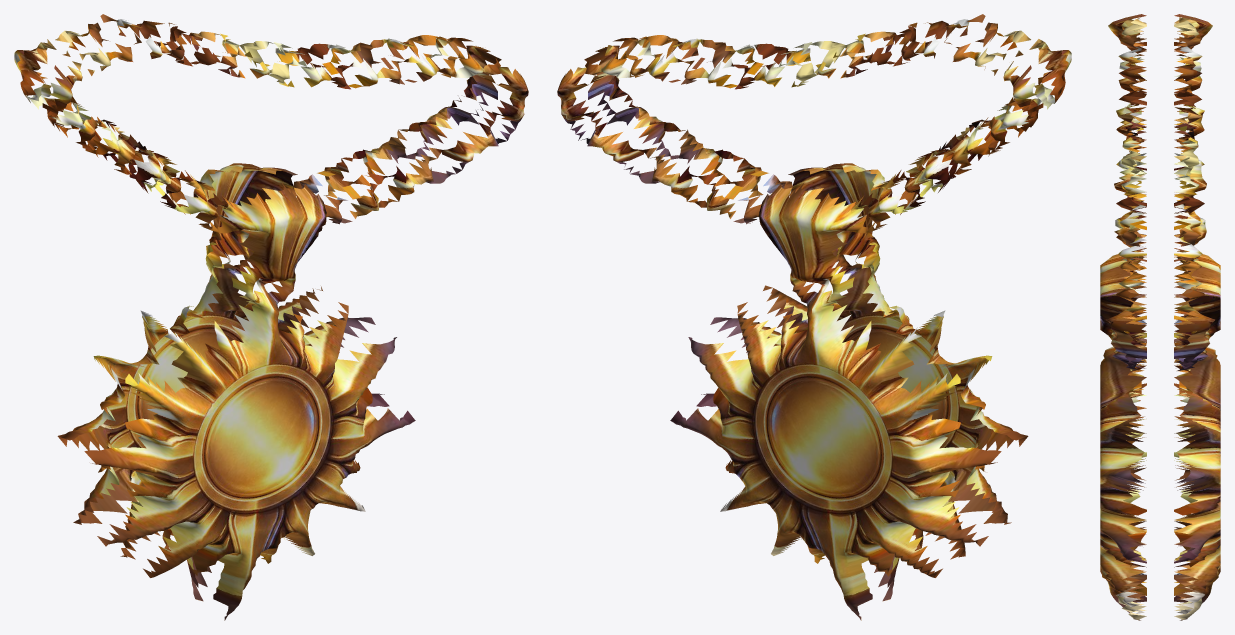
Rendered from v4-item-holy-symbol.glb.
3 renders of one model, left to right at view 1: azimuth 30°, elevation 25°; view 2: azimuth 150°, elevation 25°; view 3: azimuth 270°, elevation 25°, orthographic. The views are drawn at different scales.
Parts seen in each view (by area): view 1: v4-item-holy-symbol; view 2: v4-item-holy-symbol; view 3: v4-item-holy-symbol.
Boxes of the visible parts, x1=… form: v4-item-holy-symbol: x1=14, y1=14, x2=528, y2=620; v4-item-holy-symbol: x1=557, y1=14, x2=1071, y2=620; v4-item-holy-symbol: x1=1100, y1=14, x2=1220, y2=620.
Size of the model in its own units: 0.1135 by 0.138 by 0.0277.
Materials: 1 (1 with a texture image).
